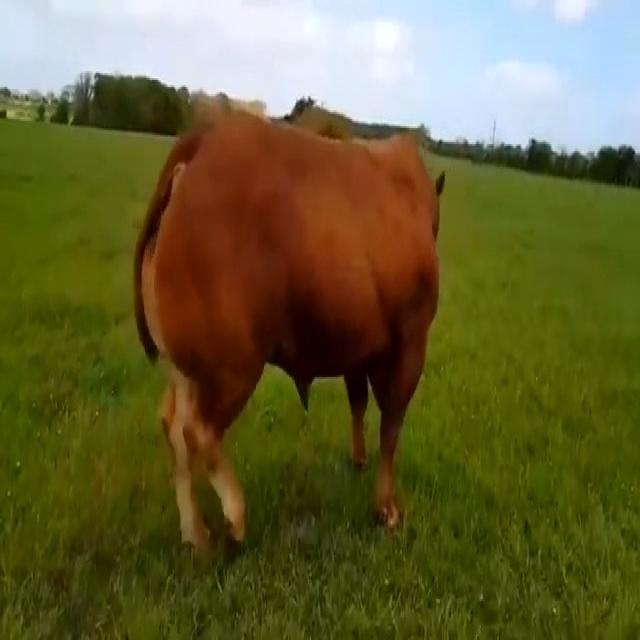COW: (135, 116, 444, 550)
